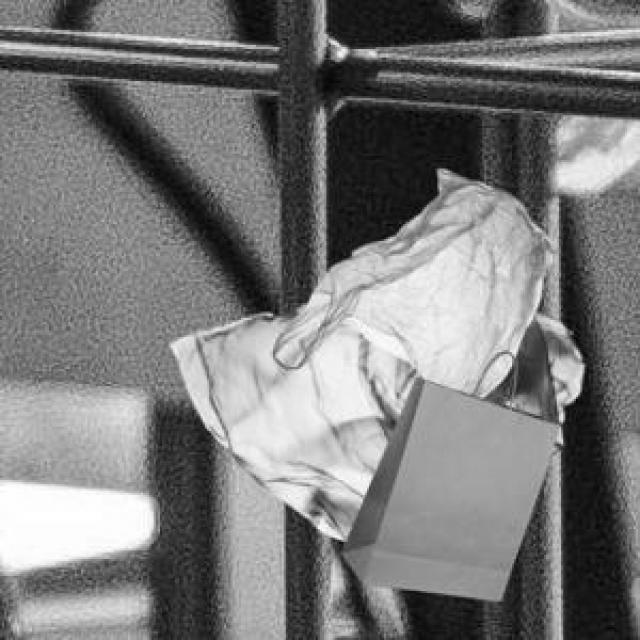paper: (337, 373, 555, 597)
